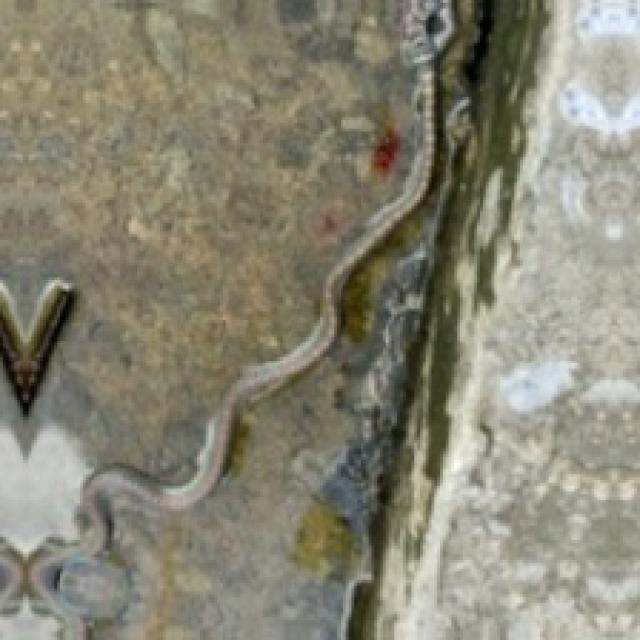paradise tree snake: (83, 0, 451, 551)
